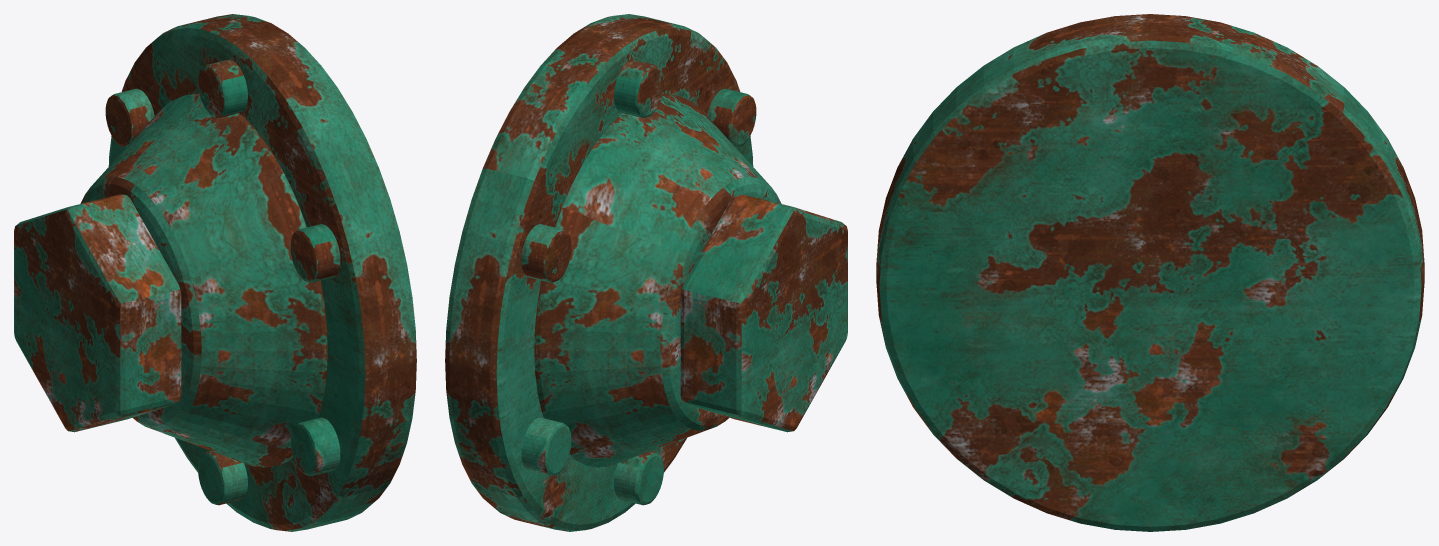
File: valve_bonnet_vis.obj
3 views of the same model, side by side, from view 1: azimuth 30°, elevation 25°; view 2: azimuth 150°, elevation 25°; view 3: azimuth 270°, elevation 25° (orthographic). The views are drawn at different scales.
Size of the model in its own units: 0.056 by 0.112 by 0.112.
1 material, 1 textured.
